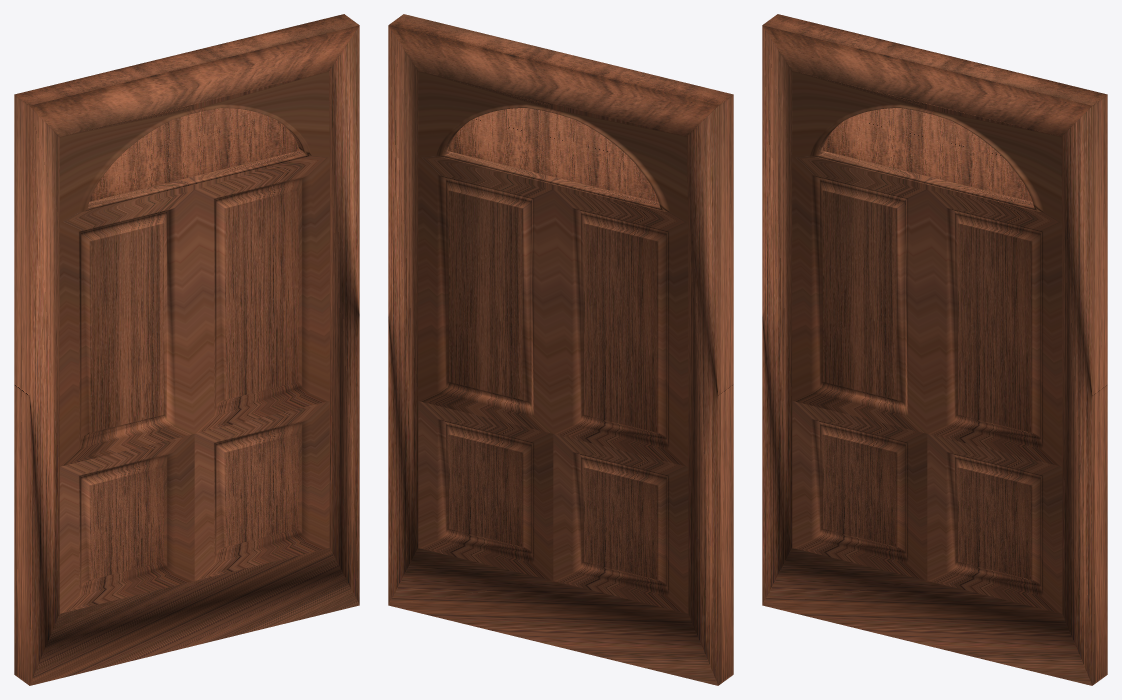
Rendered from puerta.obj.
The picture shows the model from 3 angles, left to right: view 1: azimuth 30°, elevation 25°; view 2: azimuth 150°, elevation 25°; view 3: azimuth 330°, elevation 25°; orthographic projection.
Visible parts, largest first — view 1: doors:Door07, doors:Box06; view 2: doors:Door07, doors:Box06; view 3: doors:Door07, doors:Box06.
Boxes of the visible parts, left/top/right/bottom form: doors:Door07: left=14, top=14, right=359, bottom=685; doors:Box06: left=89, top=88, right=299, bottom=201; doors:Door07: left=388, top=14, right=733, bottom=685; doors:Box06: left=448, top=108, right=658, bottom=202; doors:Door07: left=762, top=14, right=1107, bottom=685; doors:Box06: left=822, top=88, right=1032, bottom=201.
Size of the model in its own units: 1.75 by 2.94 by 0.181.
1 material, 1 textured.
